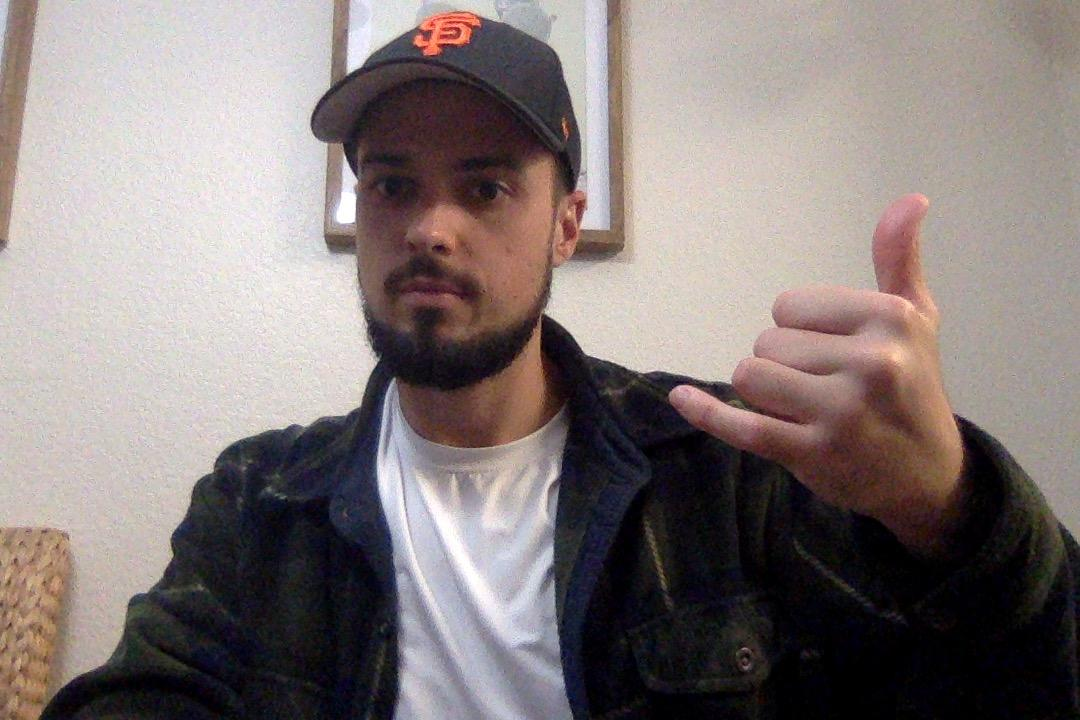Call-Me: (662, 183, 980, 565)
